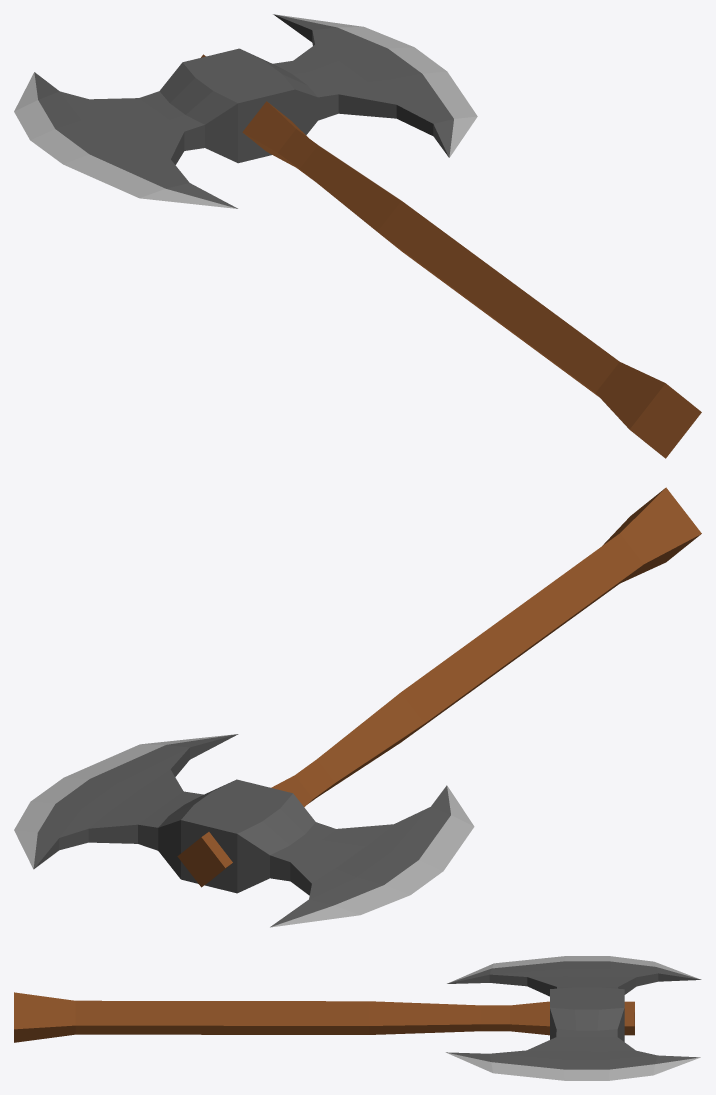
Rendered from axe.glb.
3 views of the same model, one above another, from view 1: azimuth 30°, elevation 25°; view 2: azimuth 150°, elevation 25°; view 3: azimuth 270°, elevation 25° (orthographic). The views are drawn at different scales.
Visible parts, largest first — view 1: Double Axe; view 2: Double Axe; view 3: Double Axe.
Boxes of the visible parts, x1,y1,x2,y2 form: Double Axe: (14,14,701,458); Double Axe: (14,487,701,927); Double Axe: (14,956,701,1080).
Size of the model in its own units: 0.5359 by 0.1009 by 1.25.
